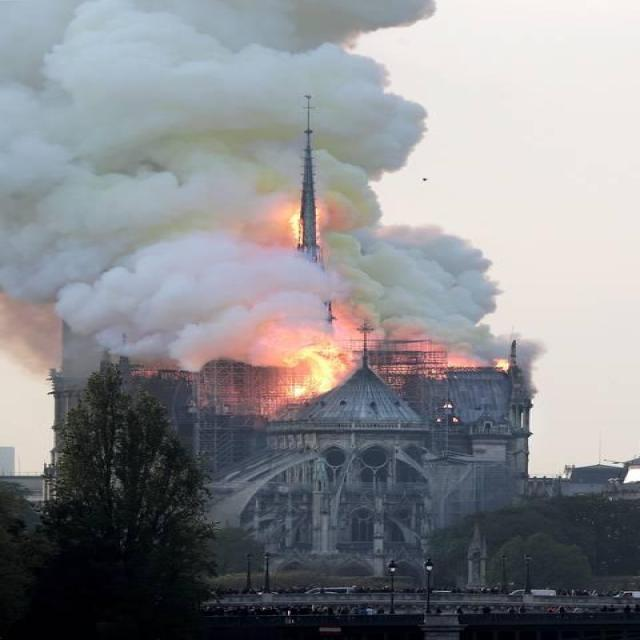Fire: (278, 338, 364, 393), (284, 204, 322, 241)
Smoke: (0, 0, 545, 362)
